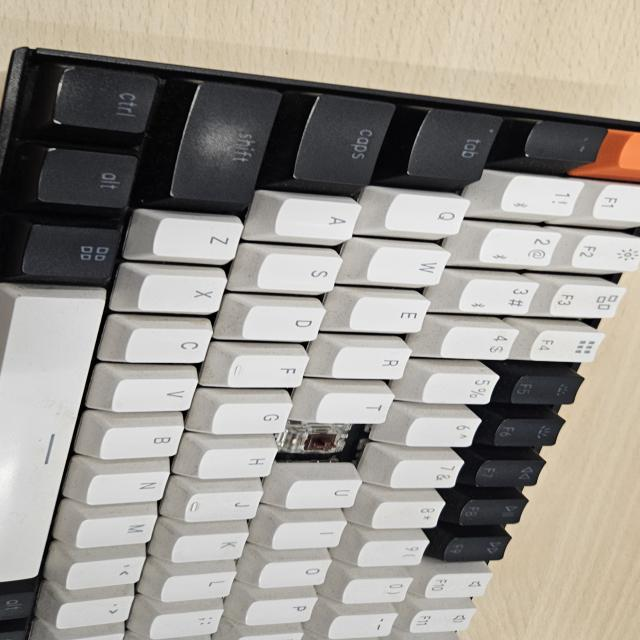C: (297, 425, 348, 459)
